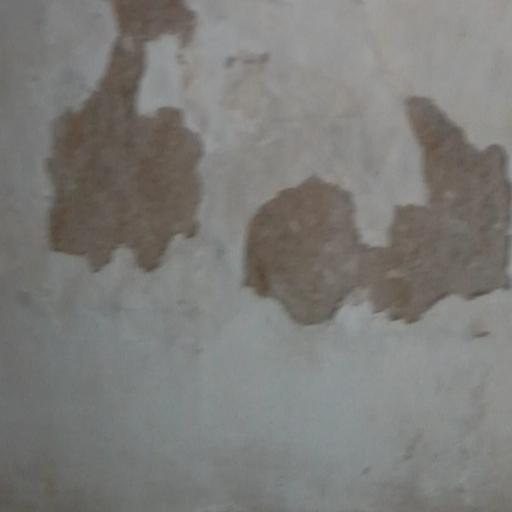peeling: (235, 83, 512, 346), (27, 0, 208, 273)
